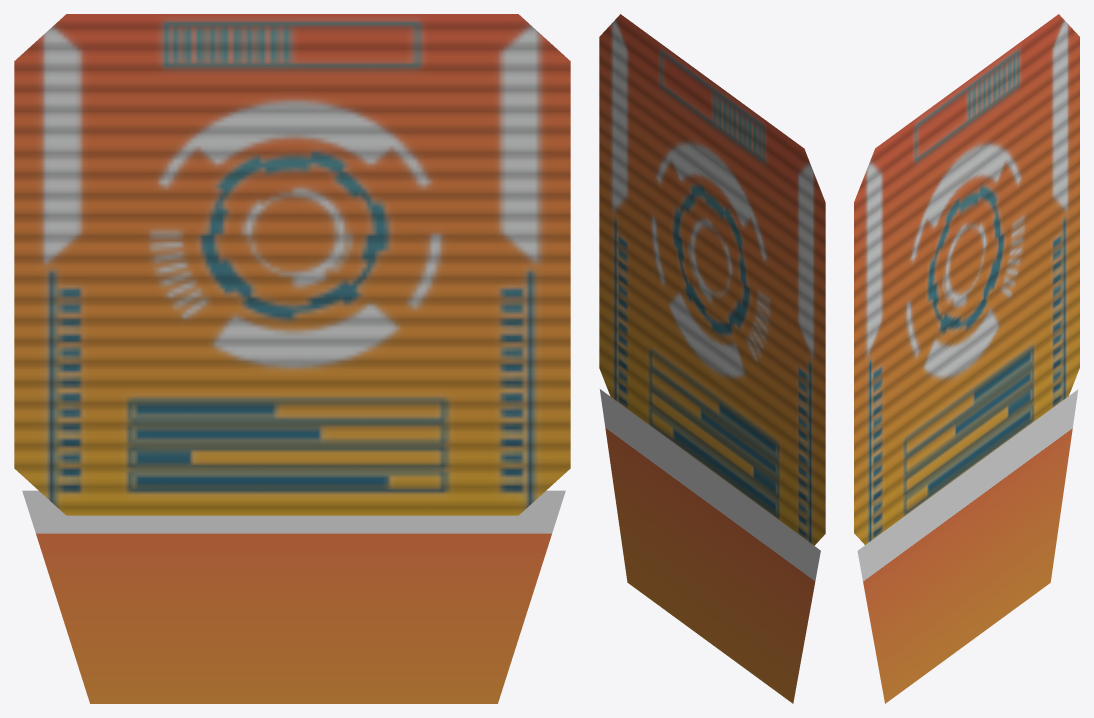
File: Terminal_016_monitor_003.fbx
The picture shows the model from 3 angles, left to right: view 1: azimuth 30°, elevation 25°; view 2: azimuth 150°, elevation 25°; view 3: azimuth 270°, elevation 25°; orthographic projection. The views are drawn at different scales.
Parts seen in each view (by area): view 1: Terminal_016_monitor_003; view 2: Terminal_016_monitor_003; view 3: Terminal_016_monitor_003.
Boxes of the visible parts, x1,y1,x2,y2 form: Terminal_016_monitor_003: (14, 14, 570, 703); Terminal_016_monitor_003: (599, 14, 825, 703); Terminal_016_monitor_003: (854, 14, 1079, 703).
Size of the model in its own units: 33.92 by 19.59 by 53.69.
